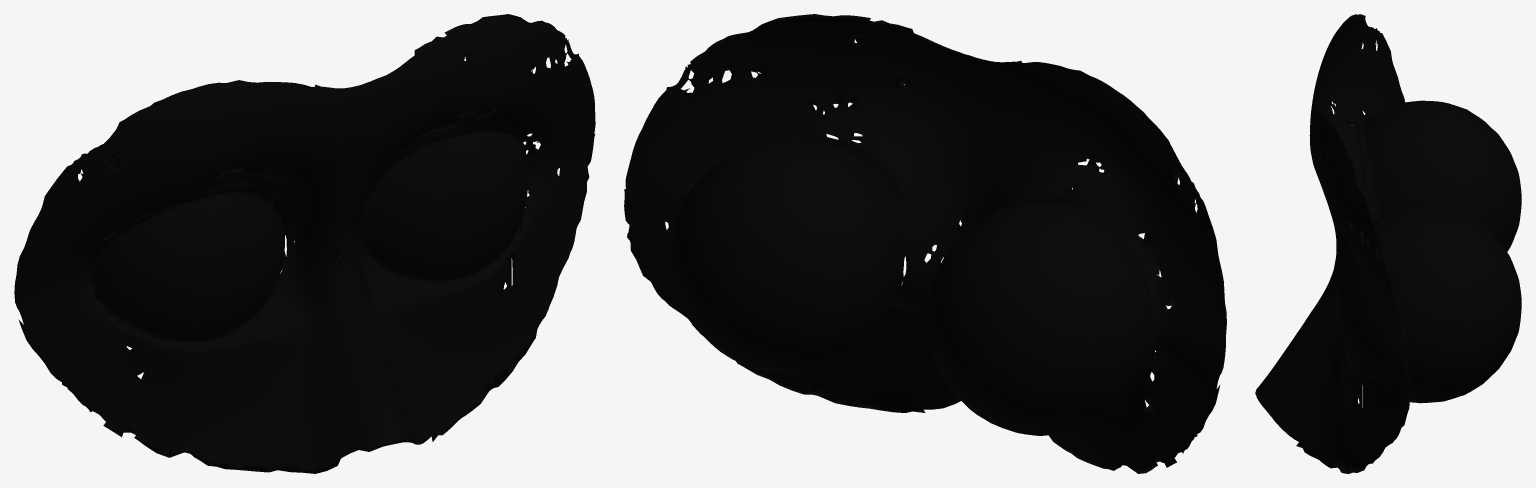
The model's file is eyes_narrow.glb.
3 views of the same model, side by side, from view 1: azimuth 30°, elevation 25°; view 2: azimuth 150°, elevation 25°; view 3: azimuth 270°, elevation 25° (orthographic). The views are drawn at different scales.
Visible parts, largest first — view 1: model; view 2: model; view 3: model.
Part boxes in pixels (bbox=[...]): model: bbox=[14, 14, 595, 473]; model: bbox=[624, 14, 1226, 473]; model: bbox=[1255, 14, 1521, 473].
Bounding box in the file's own units: 1.9 × 1.21 × 0.8625.
Materials: 1 (1 with a texture image).
